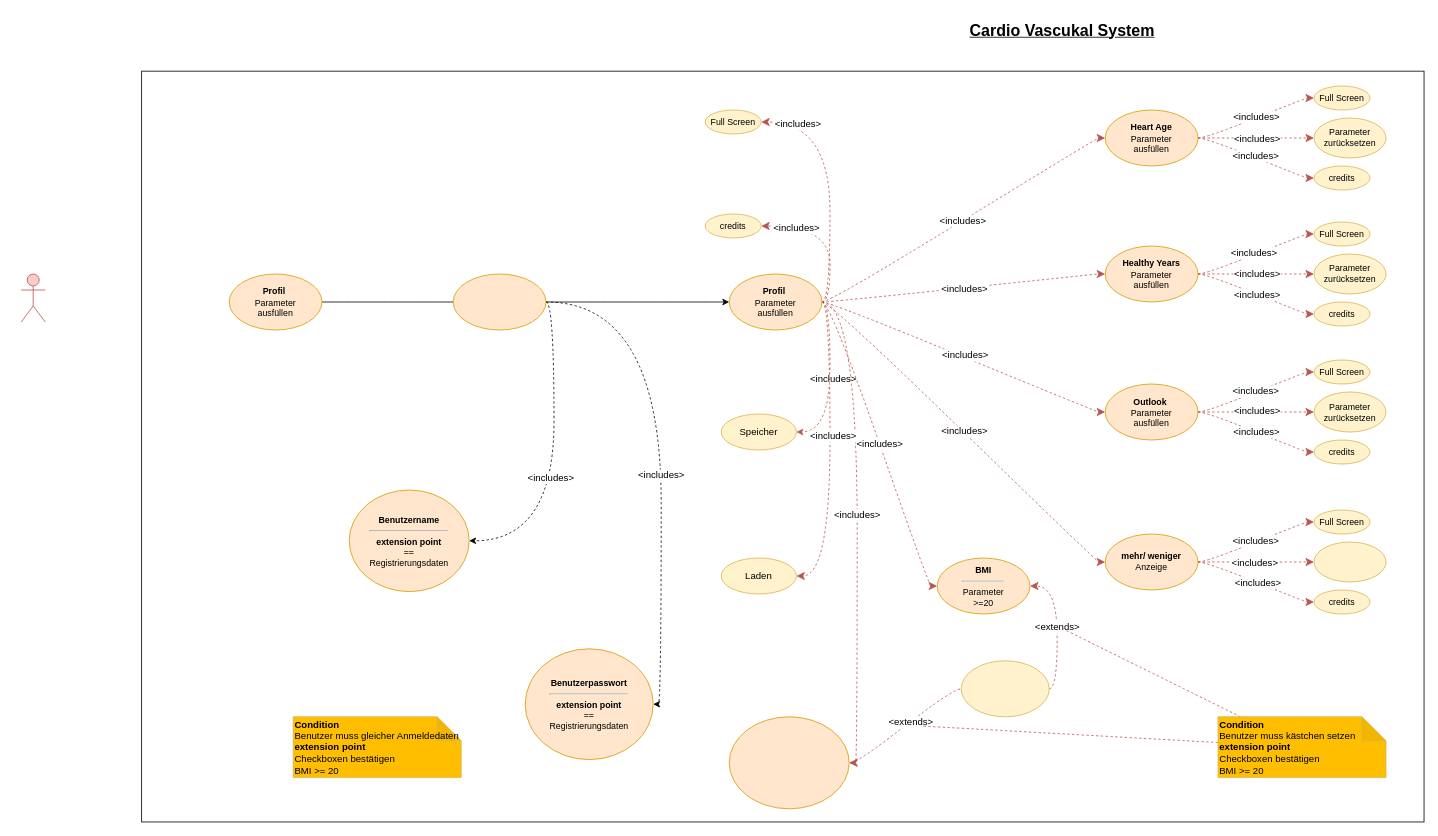
Image size: 1438x836. Some labels were removed from this diagram. The shapes that lost their labels are listed below. From the top down, each one's box as (x1, y1, x2, y2) in pixels, then its label:
(20, 273, 45, 322): Benutzer
(452, 273, 546, 330): Benutzer Anmelden
(1313, 541, 1386, 582): öffnet weitere Seiten
(960, 660, 1049, 717): Tab-Control nächste Seite sperren!
(728, 716, 849, 809): AGB's durchlesen extension point Checkboxen bestätigen
